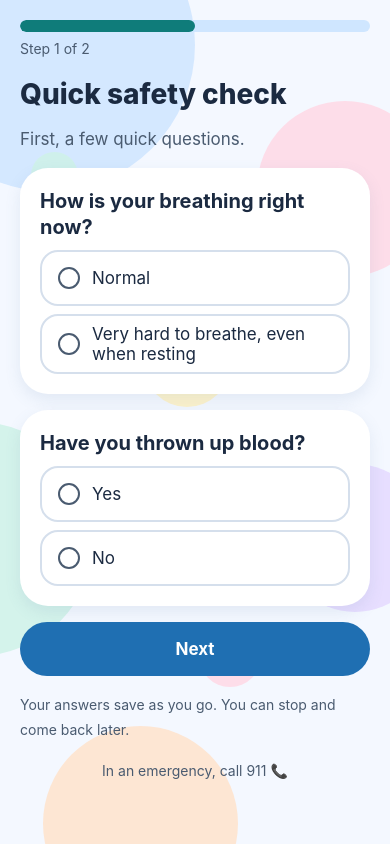
Test: Questionnaire › shows a progress indicator and branches follow-up questions
Check: the text "Step 1 of 2" is shown, box [20, 40, 90, 57]
Click the radio button with test id "breathing-normal": (195, 278) [40, 250, 350, 306]
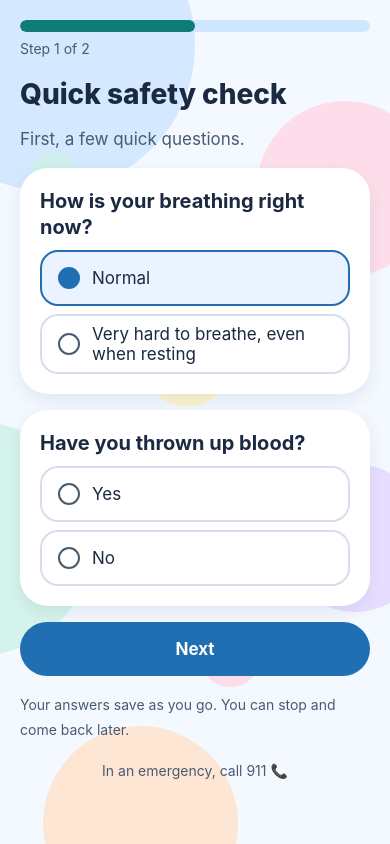
Click the radio button with test id "vomiting_blood-no": (195, 558) [40, 530, 350, 586]
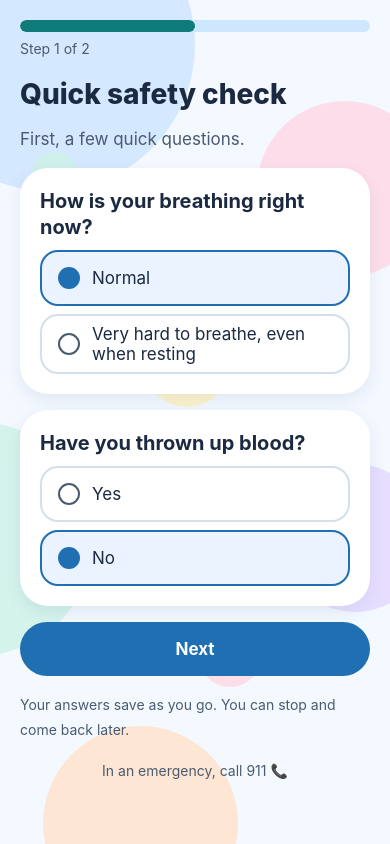
Click the button with test id "questionnaire-next": (195, 649) [20, 622, 370, 676]
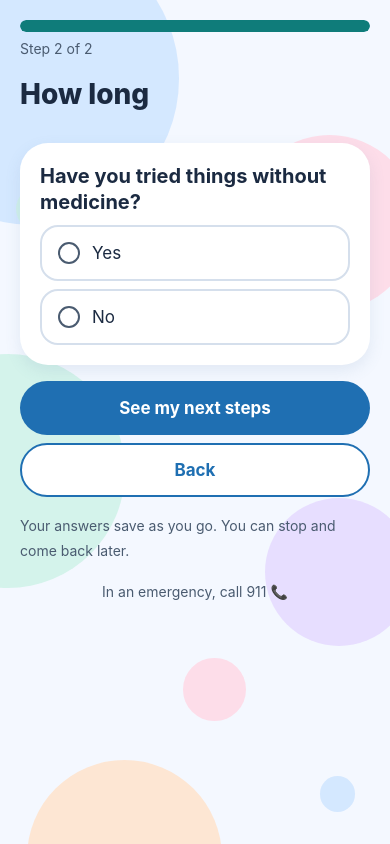
Check: the text "Did it help?" is not shown
Check: the text "Step 2 of 2" is shown, box [20, 40, 93, 57]
Click the radio button with test id "comfort_tried-yes": (195, 253) [40, 225, 350, 281]
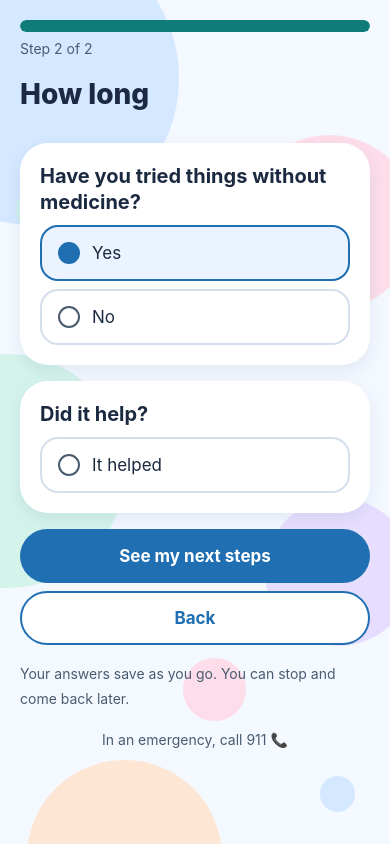
Check: the heading "Did it help?" is shown, box [40, 402, 148, 426]
Click the radio button with test id "comfort_tried-no": (195, 317) [40, 289, 350, 345]
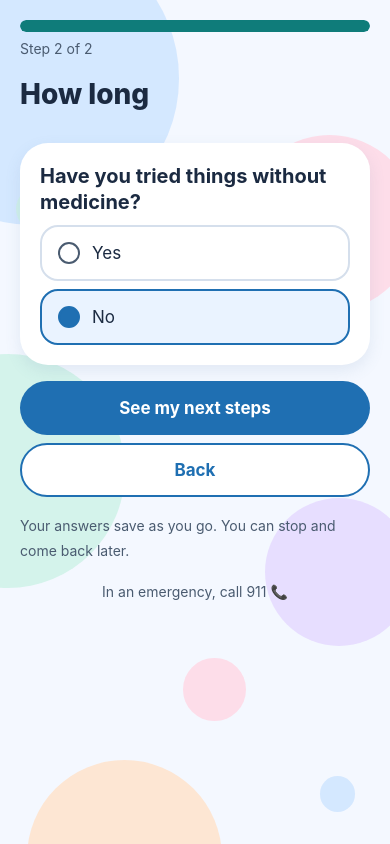
Check: the heading "Did it help?" is gone
